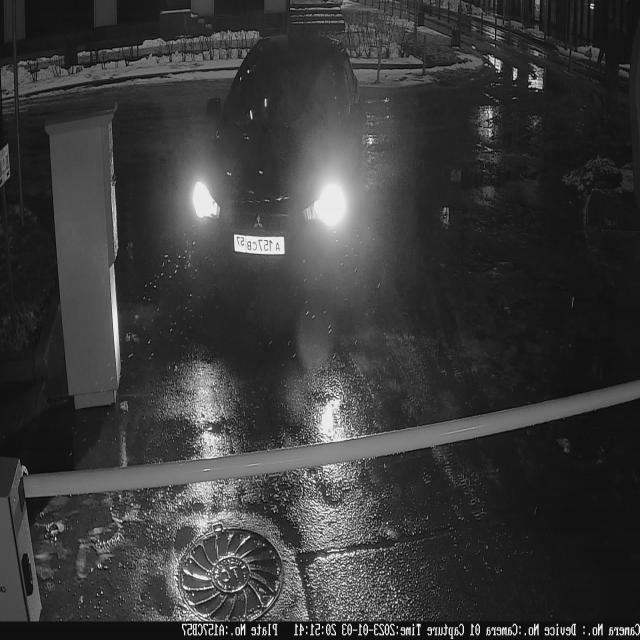car-plate-numbers: (233, 233, 288, 259)
